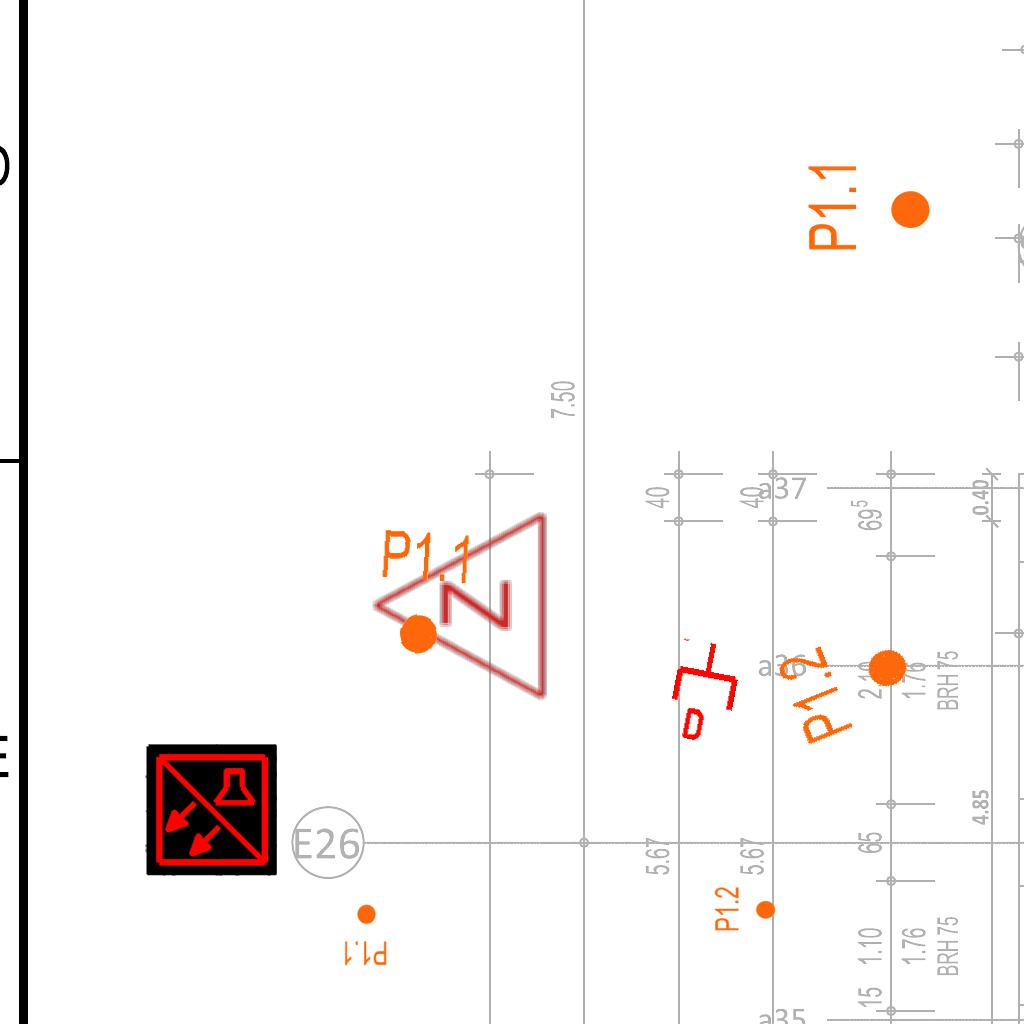Datenanschluss_einfach: (661, 635, 748, 747)
Downlight_LED_Einbauleuchten_Flur: (771, 614, 926, 750), (373, 525, 476, 661), (805, 160, 933, 253), (713, 886, 777, 932), (342, 903, 388, 967)
OKW_Multisensormelder_(Kombination_optischer_Rauch-Kahlenmonoxid_Waerme-Melder): (145, 744, 277, 876)
Zimmersignalleuchte: (360, 510, 560, 706)
